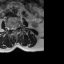CCS_stenosis: (13, 25, 15, 32)
LFS_normal: (17, 23, 19, 30)
LLS_normal: (15, 24, 17, 32)
RFS_normal: (10, 25, 11, 32)
RLS_normal: (11, 25, 13, 32)
